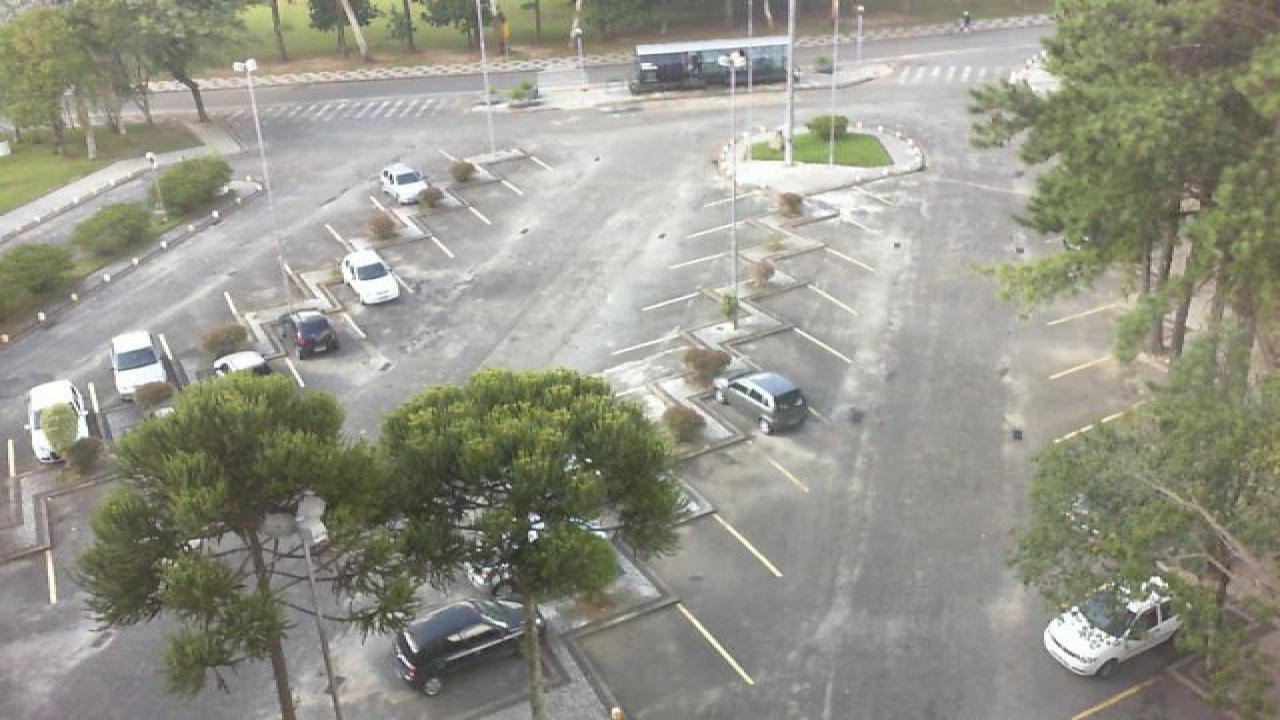Car: (1040, 575, 1186, 678), (392, 596, 538, 694), (714, 370, 810, 434), (24, 379, 84, 464), (108, 330, 172, 398), (340, 250, 402, 305), (286, 308, 342, 360), (378, 162, 432, 206), (210, 351, 272, 383)
